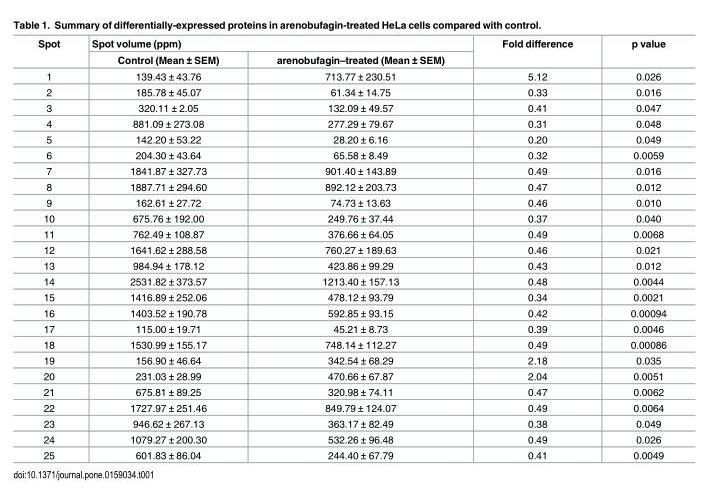table: (37, 36, 665, 460)
table column: (247, 36, 472, 460), (75, 36, 247, 460), (472, 36, 600, 460), (600, 36, 665, 460), (37, 36, 75, 460)
table column header: (37, 36, 665, 67)
table row: (37, 51, 665, 67), (37, 67, 665, 83), (37, 83, 665, 99), (37, 99, 665, 115), (37, 115, 665, 131), (37, 146, 665, 162), (37, 162, 665, 178), (37, 178, 665, 194), (37, 209, 665, 225), (37, 225, 665, 241), (37, 241, 665, 257), (37, 257, 665, 273), (37, 288, 665, 304), (37, 304, 665, 320), (37, 320, 665, 336), (37, 336, 665, 352), (37, 367, 665, 383), (37, 383, 665, 399), (37, 399, 665, 415), (37, 430, 665, 446), (37, 36, 665, 51), (37, 131, 665, 146), (37, 194, 665, 209), (37, 273, 665, 288), (37, 352, 665, 367), (37, 415, 665, 430), (37, 446, 665, 460)
table spanning cell: (75, 36, 472, 51), (472, 36, 600, 67), (600, 36, 665, 67), (37, 36, 75, 67)
